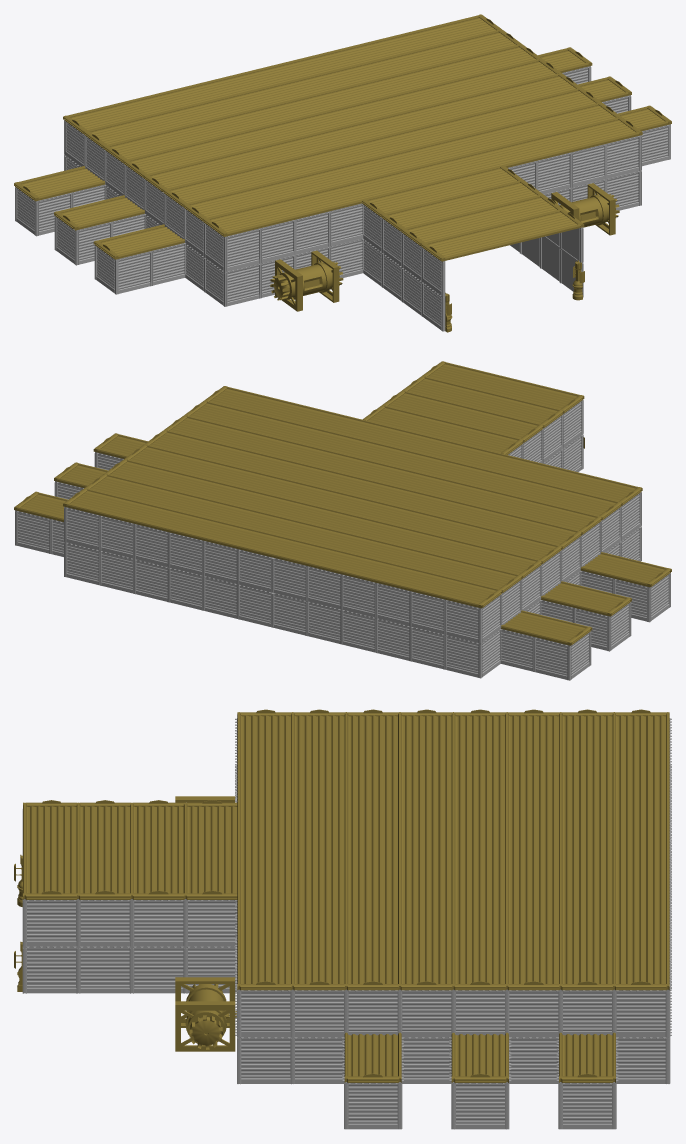
Rendered from StartingPointFull01.fbx.
3 views of the same model, one above another, from view 1: azimuth 30°, elevation 25°; view 2: azimuth 150°, elevation 25°; view 3: azimuth 270°, elevation 25° (orthographic). The views are drawn at different scales.
Parts seen in each view (by area): view 1: Roof05, Roof01, Wall06, Wall05, Wall07, Wall02, Room06, Room05, Room04, FullGeneratorAssembly04, Wall01, Room01 (+3 smaller); view 2: Roof05, Wall04, Roof01, Wall05, Room04, Room05, Room06, Wall07, Room03, Room01, Room02; view 3: Roof05, Wall03, Roof01, Wall01, Room02, Room01, Room03, FullGeneratorAssembly05, Wall04.
Boxes of the visible parts, x1=… form: Roof05: x1=63, y1=14, x2=642, y2=236; Roof01: x1=362, y1=166, x2=584, y2=261; Wall06: x1=227, y1=203, x2=363, y2=305; Wall05: x1=64, y1=121, x2=227, y2=306; Wall07: x1=362, y1=204, x2=445, y2=331; Wall02: x1=508, y1=136, x2=639, y2=210; Room06: x1=93, y1=224, x2=186, y2=294; Room05: x1=54, y1=195, x2=146, y2=265; Room04: x1=14, y1=166, x2=106, y2=236; FullGeneratorAssembly04: x1=270, y1=250, x2=343, y2=311; Wall01: x1=510, y1=227, x2=583, y2=297; Room01: x1=618, y1=105, x2=671, y2=166; Roof05: x1=63, y1=386, x2=642, y2=608; Wall04: x1=64, y1=506, x2=482, y2=678; Roof01: x1=362, y1=361, x2=584, y2=454; Wall05: x1=482, y1=492, x2=641, y2=676; Room04: x1=500, y1=610, x2=592, y2=680; Room05: x1=540, y1=581, x2=631, y2=651; Room06: x1=580, y1=552, x2=671, y2=622; Wall07: x1=508, y1=399, x2=583, y2=471; Room03: x1=14, y1=491, x2=68, y2=556; Room01: x1=93, y1=433, x2=147, y2=470; Room02: x1=54, y1=462, x2=107, y2=499; Roof05: x1=237, y1=709, x2=669, y2=990; Wall03: x1=237, y1=989, x2=665, y2=1084; Roof01: x1=23, y1=800, x2=237, y2=899; Wall01: x1=22, y1=899, x2=236, y2=993; Room02: x1=449, y1=1032, x2=511, y2=1129; Room01: x1=342, y1=1032, x2=403, y2=1129; Room03: x1=556, y1=1032, x2=618, y2=1129; FullGeneratorAssembly05: x1=175, y1=977, x2=236, y2=1051; Wall04: x1=665, y1=718, x2=671, y2=1083.
Size of the model in its own units: 4902 by 636 by 3726.
